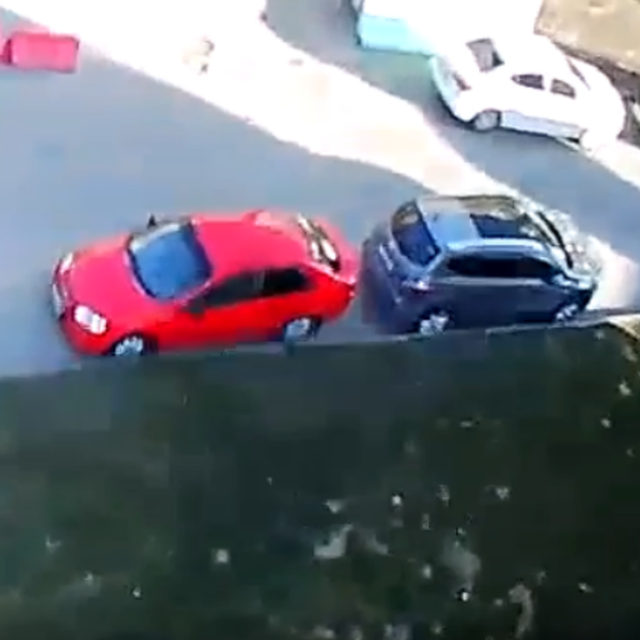car: (52, 208, 362, 360), (360, 194, 598, 336), (426, 31, 624, 146)
